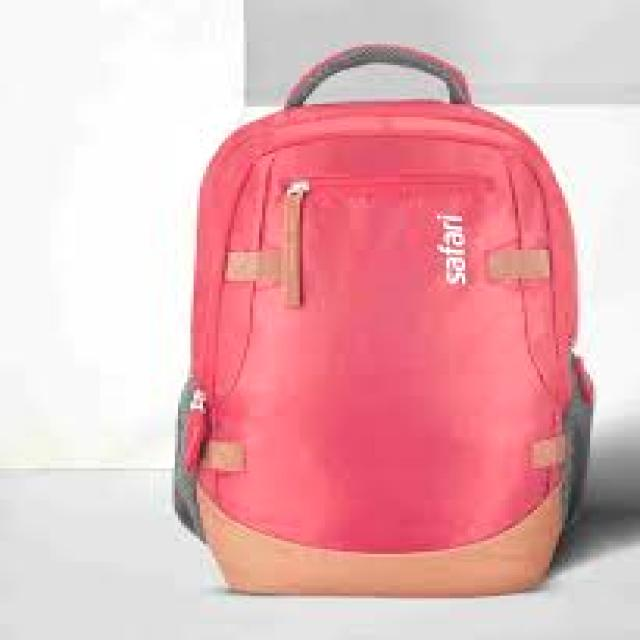backpack: (173, 41, 595, 597)
